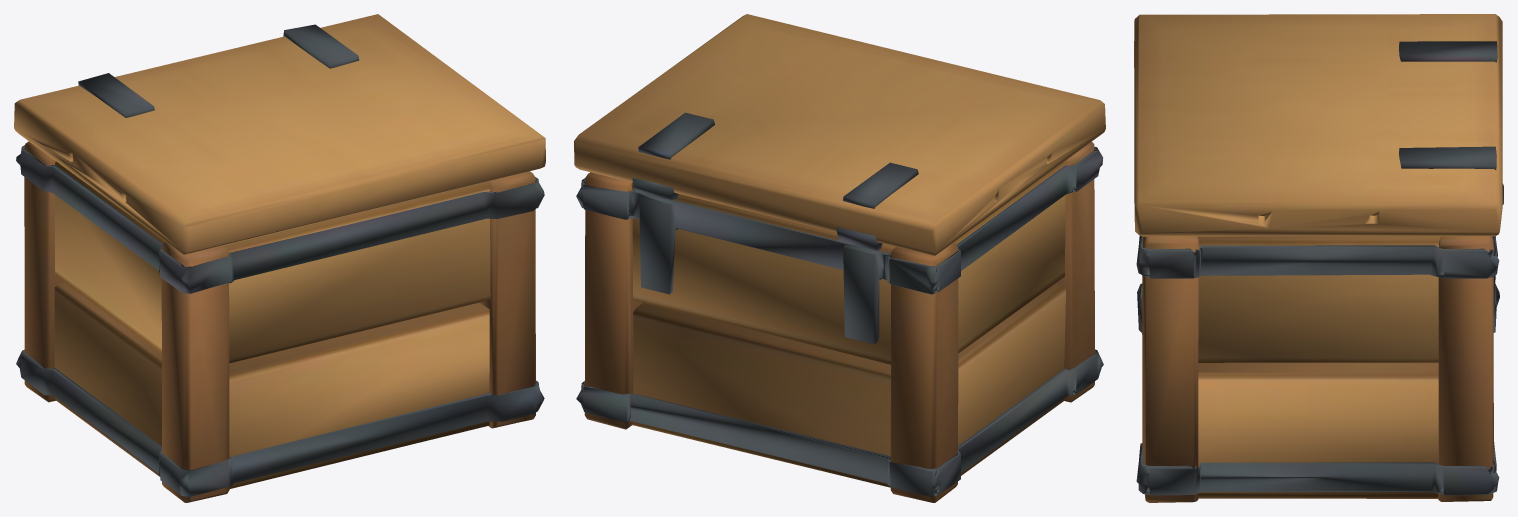
The model's file is crate.glb.
3 renders of one model, left to right at view 1: azimuth 30°, elevation 25°; view 2: azimuth 150°, elevation 25°; view 3: azimuth 270°, elevation 25°, orthographic. The views are drawn at different scales.
Visible parts, largest first — view 1: planks; view 2: planks; view 3: planks.
Boxes of the visible parts, bbox=[...] form: planks: bbox=[14, 14, 545, 502]; planks: bbox=[574, 14, 1105, 502]; planks: bbox=[1134, 14, 1503, 502].
Size of the model in its own units: 0.54 by 0.4111 by 0.4402.
1 material, 1 textured.
